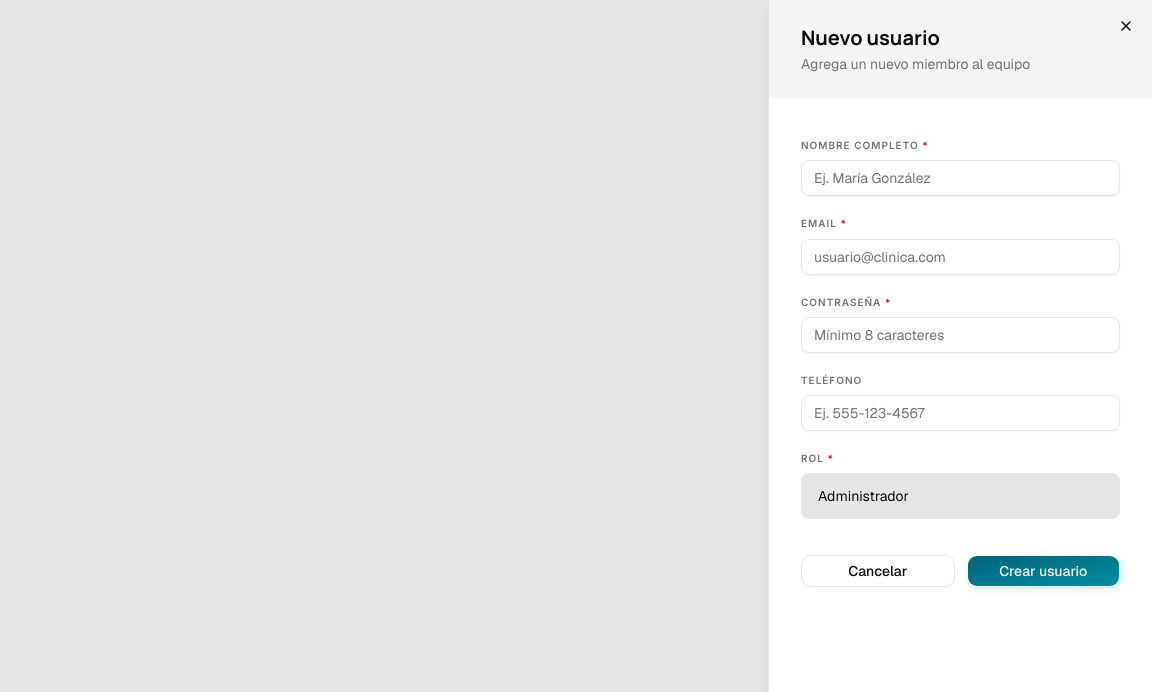
Test: UserDrawer › shows "La sucursal es obligatoria" when role is MANAGER and no location selected
Note: Select MANAGER role
Select "Gerente de sucursal" in the dropdown labelled "Rol *" at (960, 496), box top-left (801, 473), bottom-right (1120, 519)
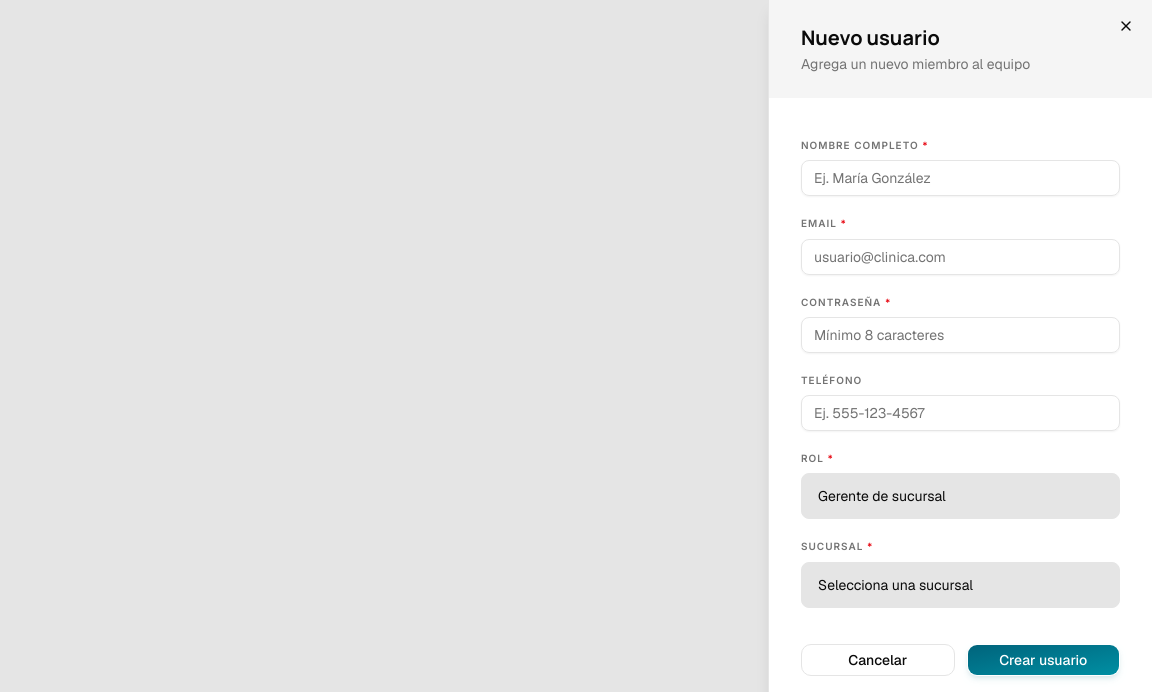
Check: the dropdown labelled "Sucursal *" is shown
Select "Selecciona una sucursal" in the dropdown labelled "Sucursal *" at (960, 585), box top-left (801, 562), bottom-right (1120, 608)
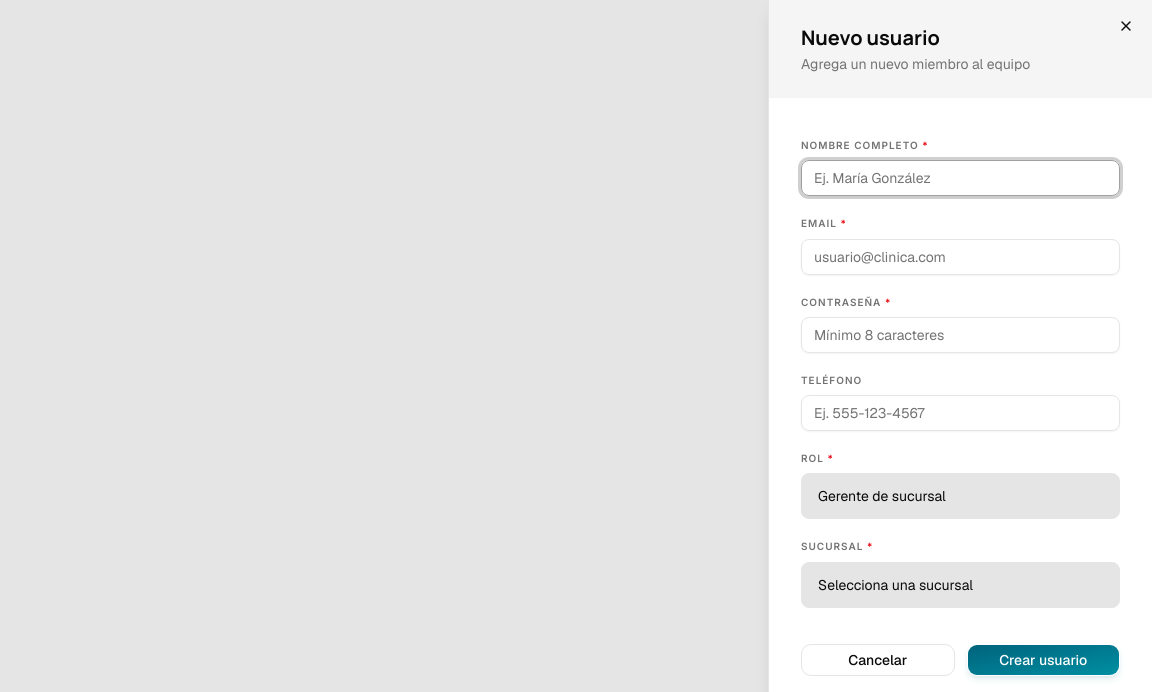
Note: Fill required fields
Type "Test User" into the field labelled "Nombre completo *" at (960, 178), box top-left (801, 160), bottom-right (1120, 196)
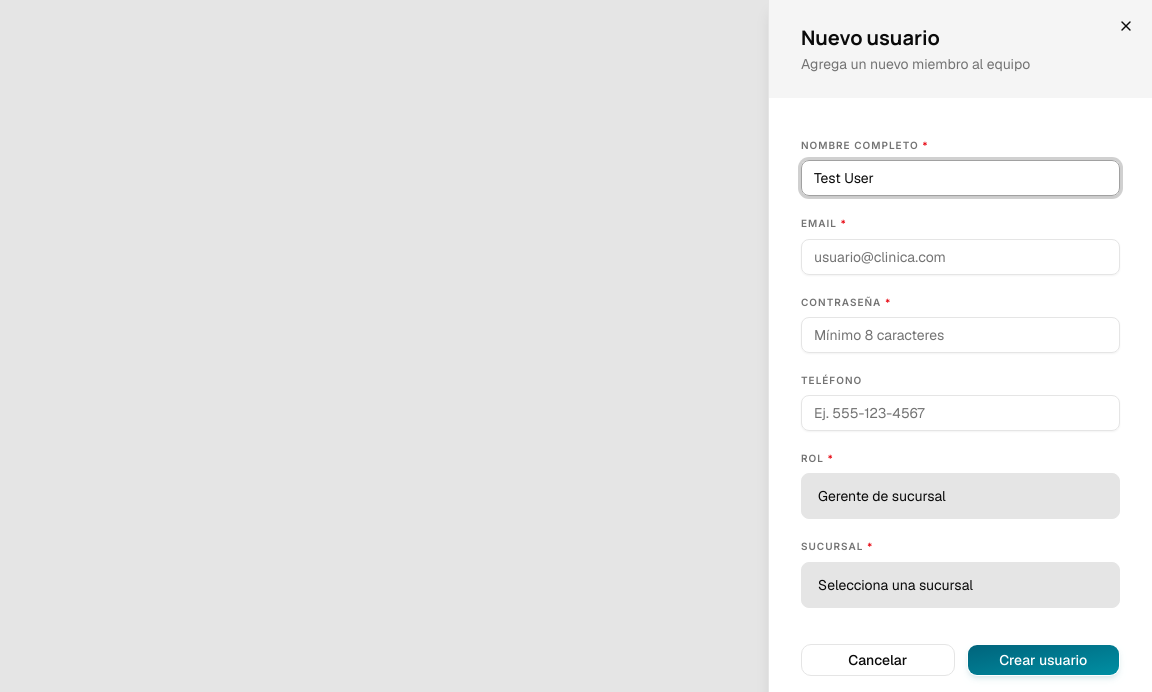
Type "test@test.com" into the field labelled "Email *" at (960, 257), box top-left (801, 239), bottom-right (1120, 275)
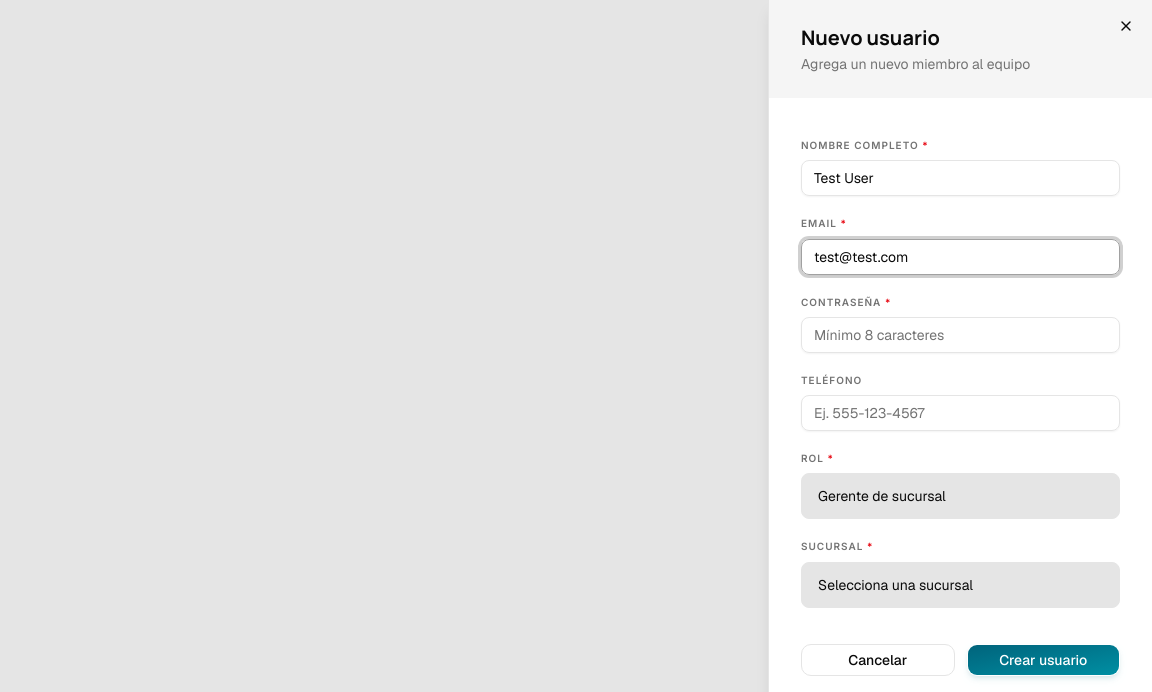
Type "password123" into the password field labelled "Contraseña *" at (960, 335), box top-left (801, 317), bottom-right (1120, 353)
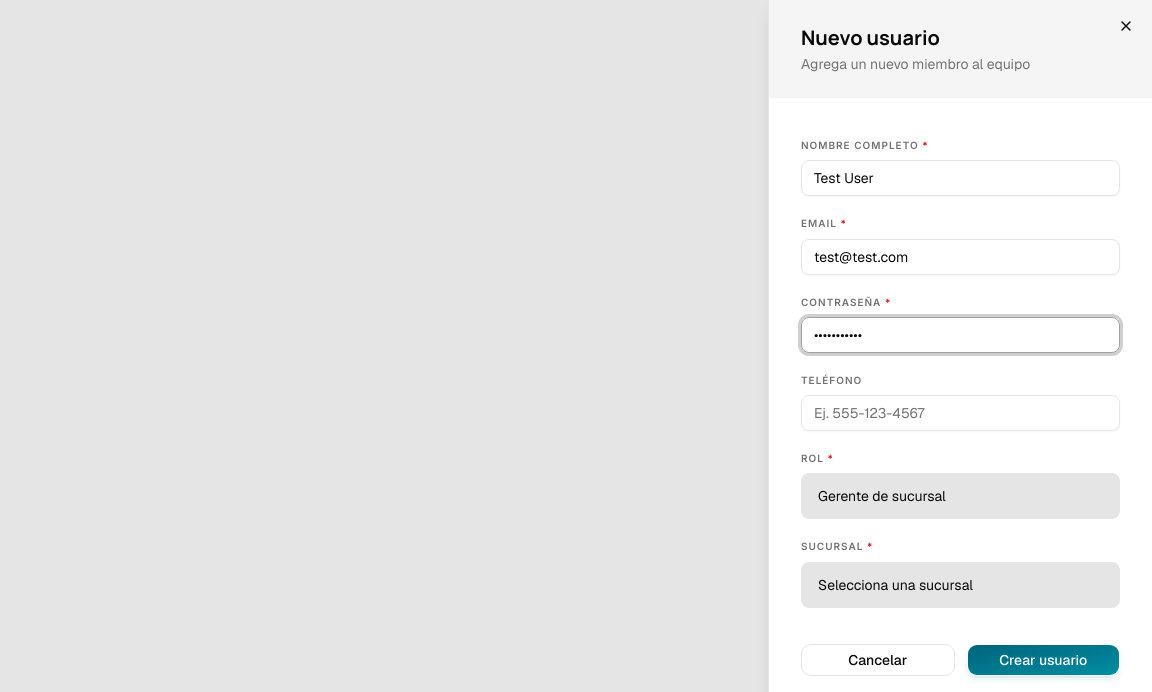
Click the button "Crear usuario" at (1043, 660), box top-left (966, 644), bottom-right (1120, 676)
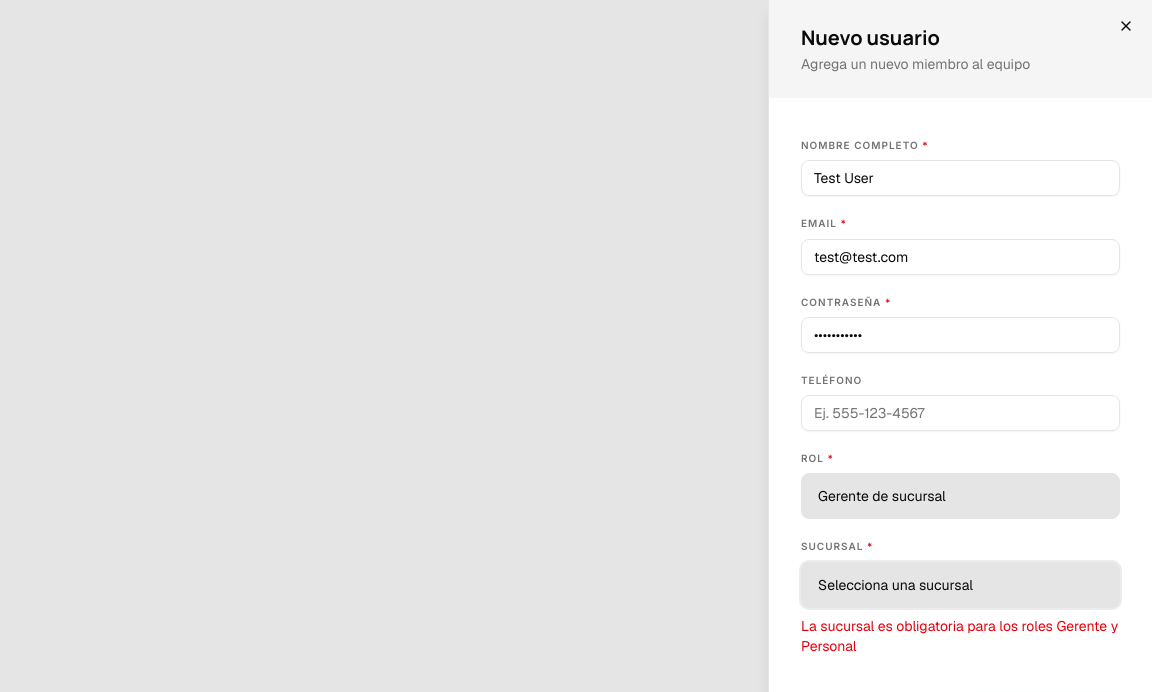
Check: the text "La sucursal es obligatoria para los roles Gerente y Personal" is shown, box top-left (801, 616), bottom-right (1120, 656)
